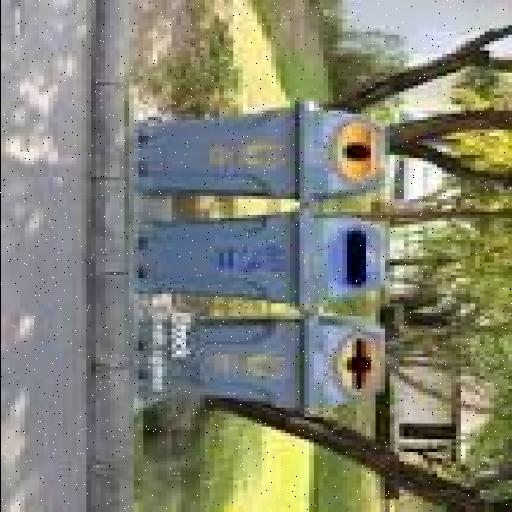poubelle_vide: (132, 96, 398, 210), (125, 202, 394, 312), (128, 314, 392, 417)
